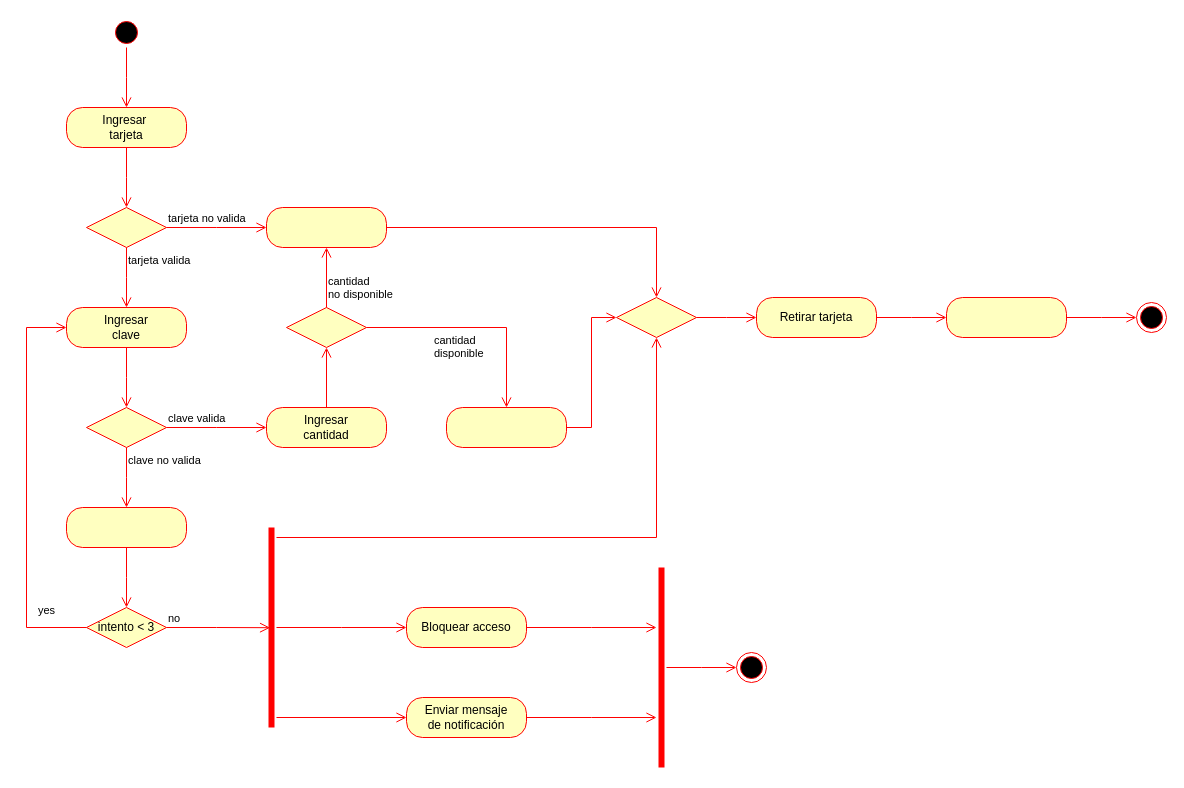
This 1184x788 diagram has some shape labels left out. Each missing label, with the centre of its shape:
Mensaje de alerta: point (126, 527)
Notificar usuario: point (326, 227)
Retirar dinero: point (506, 427)
Salir del sistema: point (1006, 317)
